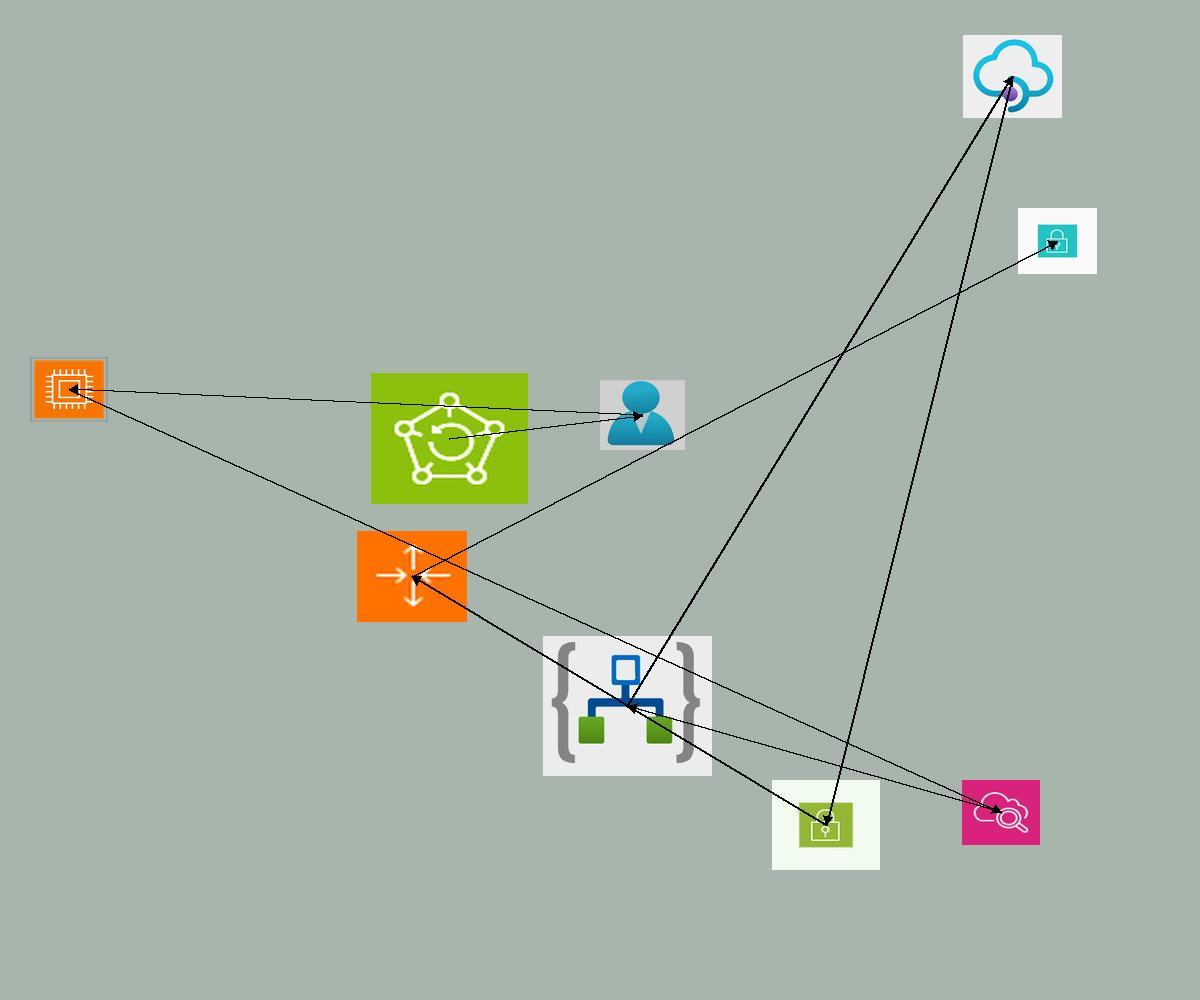AWS-Backup: (371, 373, 528, 504)
AWS-Category_Compute: (30, 357, 108, 422)
AWS-CloudWatch: (962, 780, 1040, 845)
AWS-Private-subnet: (1018, 208, 1097, 274)
AWS-Public-subnet: (772, 780, 880, 870)
AWS-Scaling-group: (357, 531, 467, 622)
Azure_api_gateway: (963, 35, 1062, 118)
Azure_integration-204-Logic-Apps: (543, 636, 712, 776)
Azure_users: (600, 380, 685, 450)
